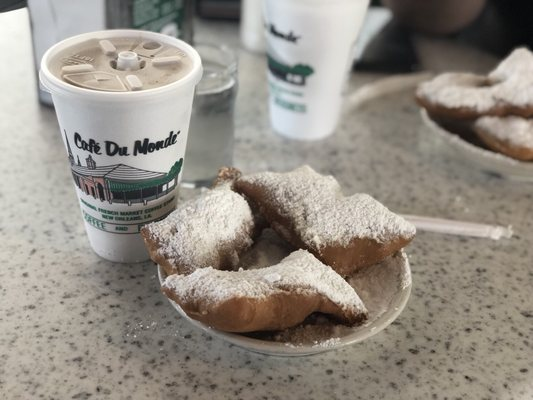pizza: (40, 27, 204, 264), (261, 0, 372, 143)
soup: (141, 163, 416, 332)
